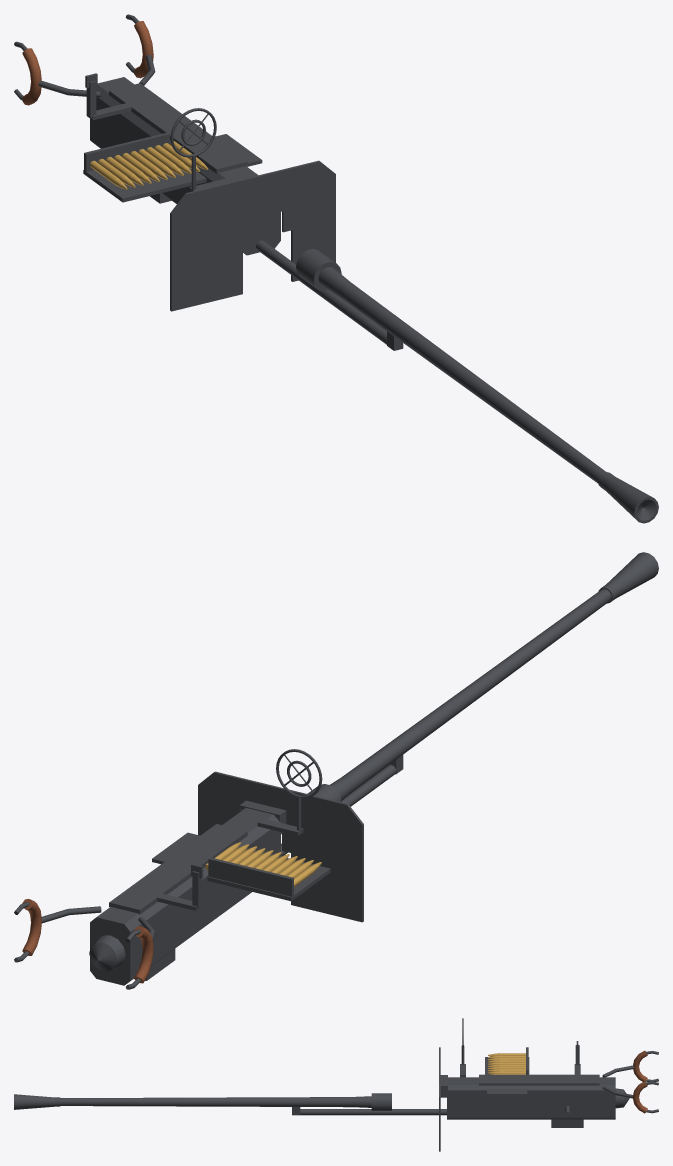
The model's file is breda_20mm.obj.
3 renders of one model, top to bottom at view 1: azimuth 30°, elevation 25°; view 2: azimuth 150°, elevation 25°; view 3: azimuth 270°, elevation 25°, orthographic. The views are drawn at different scales.
Visible parts, largest first — view 1: turret_0, barrel_0, turret_1, turret_2, turret_3; view 2: turret_0, barrel_0, turret_1, turret_2, turret_3; view 3: turret_0, barrel_0, turret_1, turret_3, turret_2.
Part boxes in pixels (left/top/right/bottom): turret_0: left=14, top=14, right=403, bottom=350; barrel_0: left=296, top=249, right=658, bottom=523; turret_1: left=90, top=141, right=208, bottom=189; turret_2: left=85, top=73, right=216, bottom=191; turret_3: left=22, top=21, right=153, bottom=105; turret_0: left=14, top=755, right=403, bottom=989; barrel_0: left=307, top=552, right=658, bottom=802; turret_1: left=205, top=842, right=321, bottom=886; turret_2: left=191, top=749, right=322, bottom=908; turret_3: left=22, top=899, right=153, bottom=983; turret_0: left=292, top=1047, right=658, bottom=1151; barrel_0: left=14, top=1093, right=391, bottom=1110; turret_1: left=488, top=1053, right=525, bottom=1074; turret_3: left=633, top=1050, right=647, bottom=1113; turret_2: left=461, top=1018, right=579, bottom=1065.
Bounding box in the file's own units: 0.555 × 0.5435 × 3.21.
